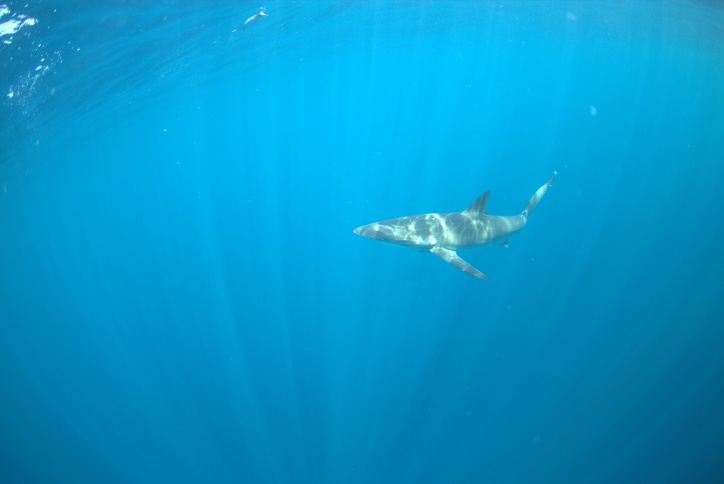Sedoso: (344, 172, 564, 284)
